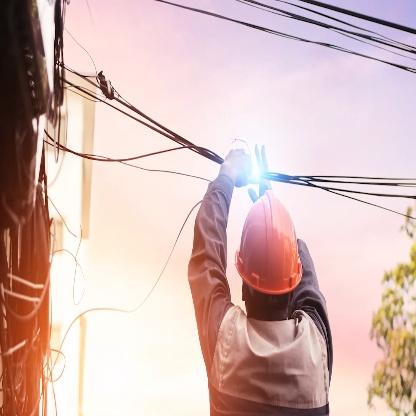helmet: (230, 187, 321, 324)
